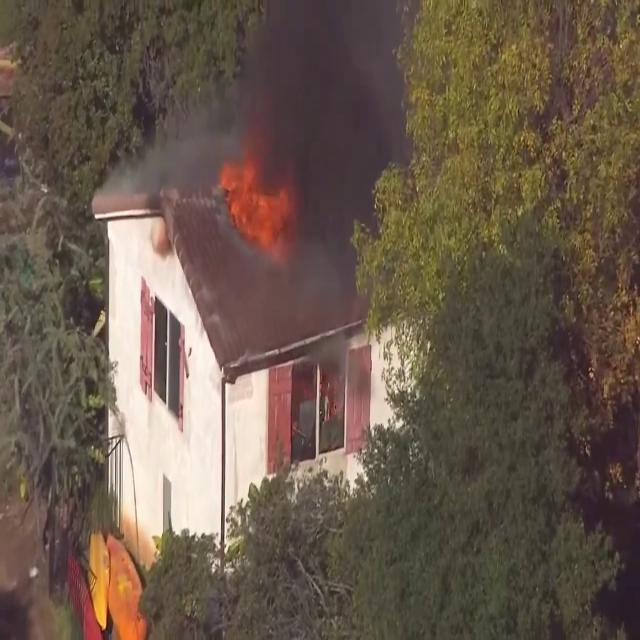Fire: (214, 146, 294, 252)
Smoke: (165, 0, 416, 274)
